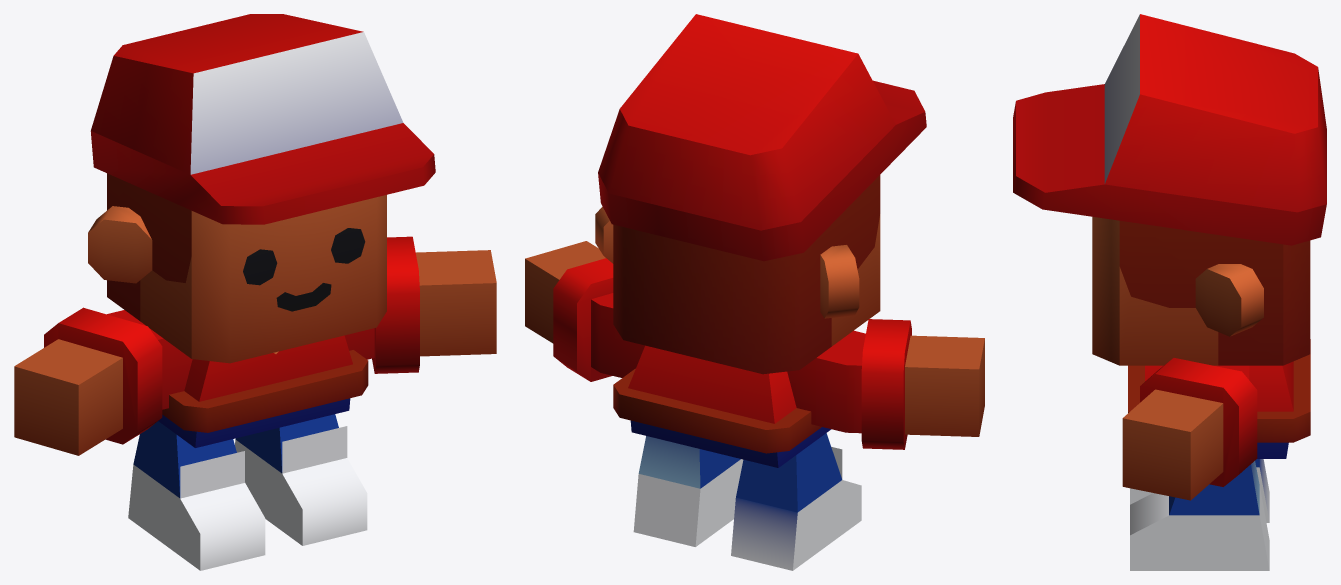
The model's file is character-boy.fbx.
3 views of the same model, side by side, from view 1: azimuth 30°, elevation 25°; view 2: azimuth 150°, elevation 25°; view 3: azimuth 270°, elevation 25° (orthographic). The views are drawn at different scales.
Parts seen in each view (by area): view 1: hat, head, arm-right, body, leg-right, arm-left, leg-left; view 2: hat, head, arm-right, body, leg-right, arm-left, leg-left; view 3: hat, head, arm-left, leg-left, body, leg-right.
Part boxes in pixels (box(x1,y1,x2,y2)): hat: box(90, 14, 435, 224); head: box(88, 173, 386, 363); arm-right: box(14, 307, 192, 455); body: box(158, 335, 368, 447); leg-right: box(128, 421, 265, 570); arm-left: box(344, 236, 496, 373); leg-left: box(235, 414, 367, 545); hat: box(598, 14, 926, 261); head: box(595, 175, 880, 374); arm-right: box(787, 319, 984, 449); body: box(613, 345, 831, 467); leg-right: box(731, 433, 861, 570); arm-left: box(525, 241, 644, 381); leg-left: box(633, 436, 743, 546); hat: box(1013, 14, 1326, 245); head: box(1092, 216, 1310, 365); arm-left: box(1122, 358, 1257, 500); leg-left: box(1130, 461, 1269, 570); body: box(1128, 339, 1310, 458); leg-right: box(1130, 459, 1269, 522).
Size of the model in its own units: 7.81 by 7.73 by 4.61.
